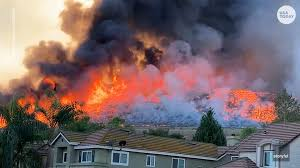smoke: (8, 1, 298, 114)
